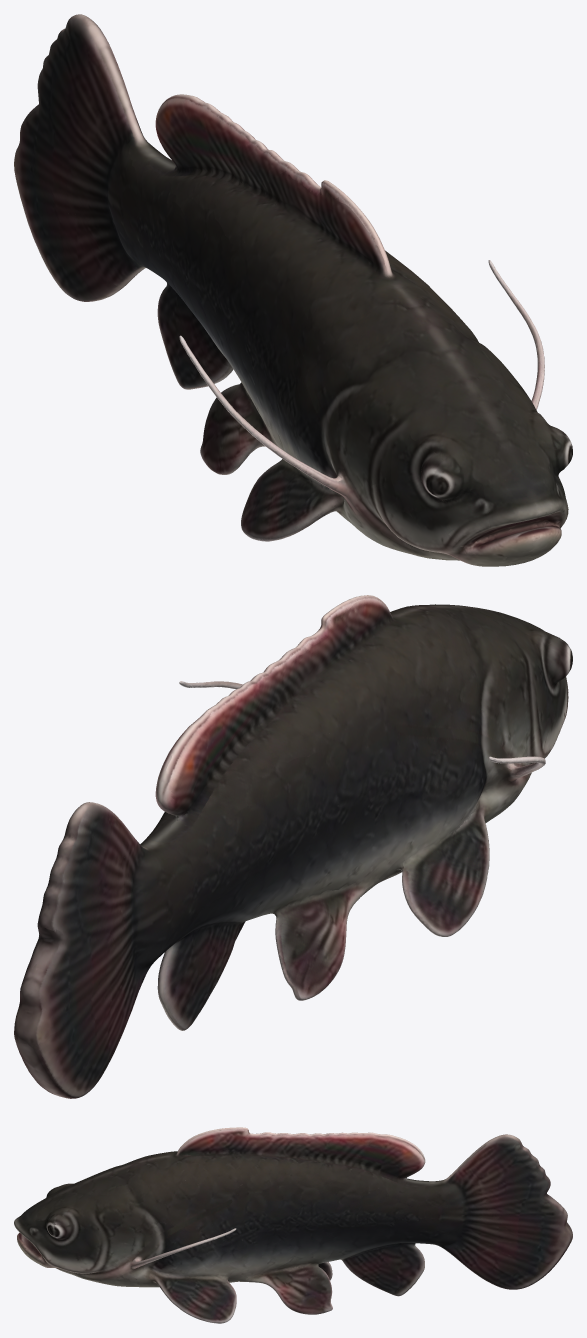
Rendered from Catfish.glb.
3 renders of one model, top to bottom at view 1: azimuth 30°, elevation 25°; view 2: azimuth 150°, elevation 25°; view 3: azimuth 270°, elevation 25°, orthographic. The views are drawn at different scales.
Parts seen in each view (by area): view 1: mesh_node; view 2: mesh_node; view 3: mesh_node.
Part boxes in pixels (x1,y1,x2,y2): mesh_node: (14,14,572,566); mesh_node: (14,595,572,1098); mesh_node: (14,1127,572,1323).
Size of the model in its own units: 0.667 by 0.6538 by 1.9.
1 material, 1 textured.
